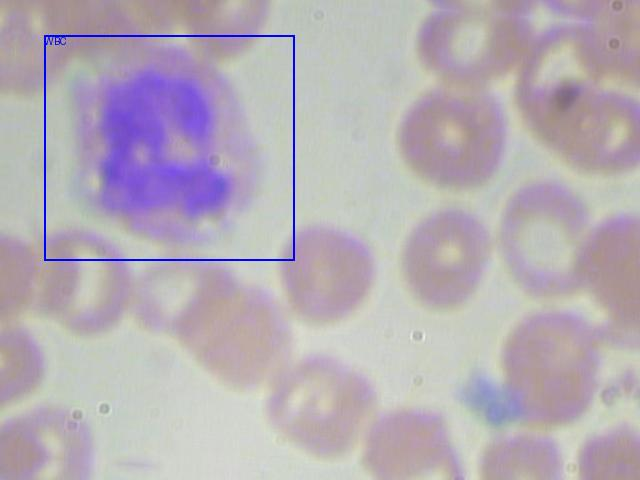WBC: (44, 35, 294, 260)
